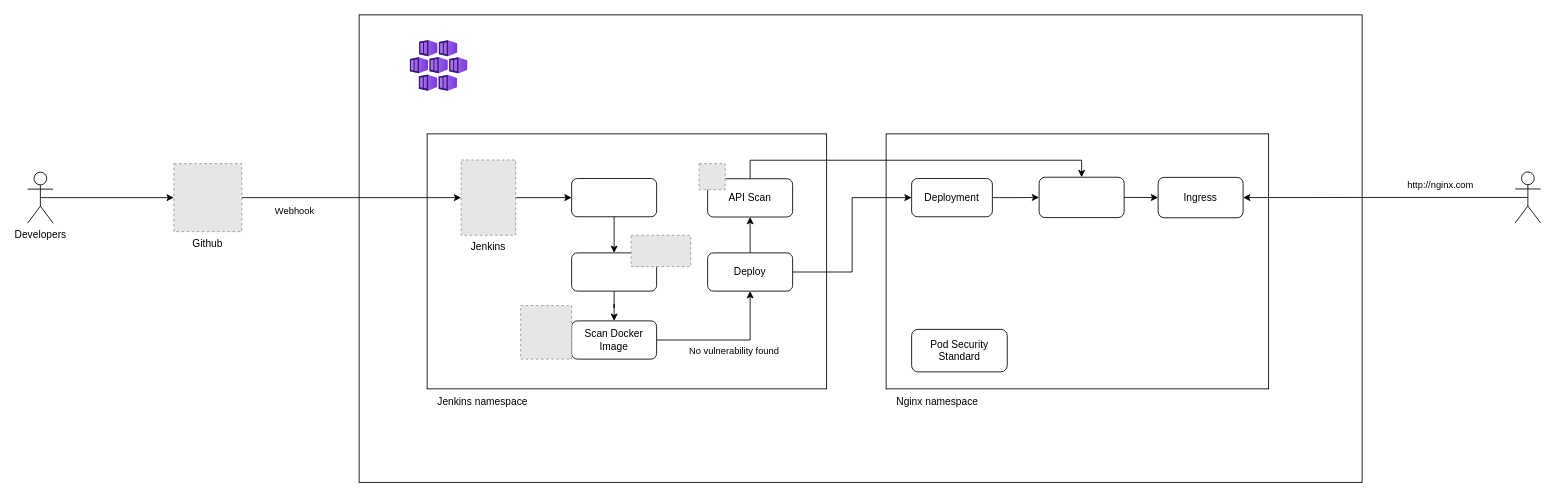
Some shapes in this 1556 by 497 pixel diagram are drawn without their labels. Grey dashed boxes stand in for pictures. Each missing label, with the box of its shape:
Azure Kubernetes Service: (410, 40, 468, 91)
Build Docker Image: (571, 178, 657, 217)
Push Docker Image: (571, 252, 657, 291)
Service: (1038, 176, 1124, 218)
Users: (1514, 171, 1541, 223)
